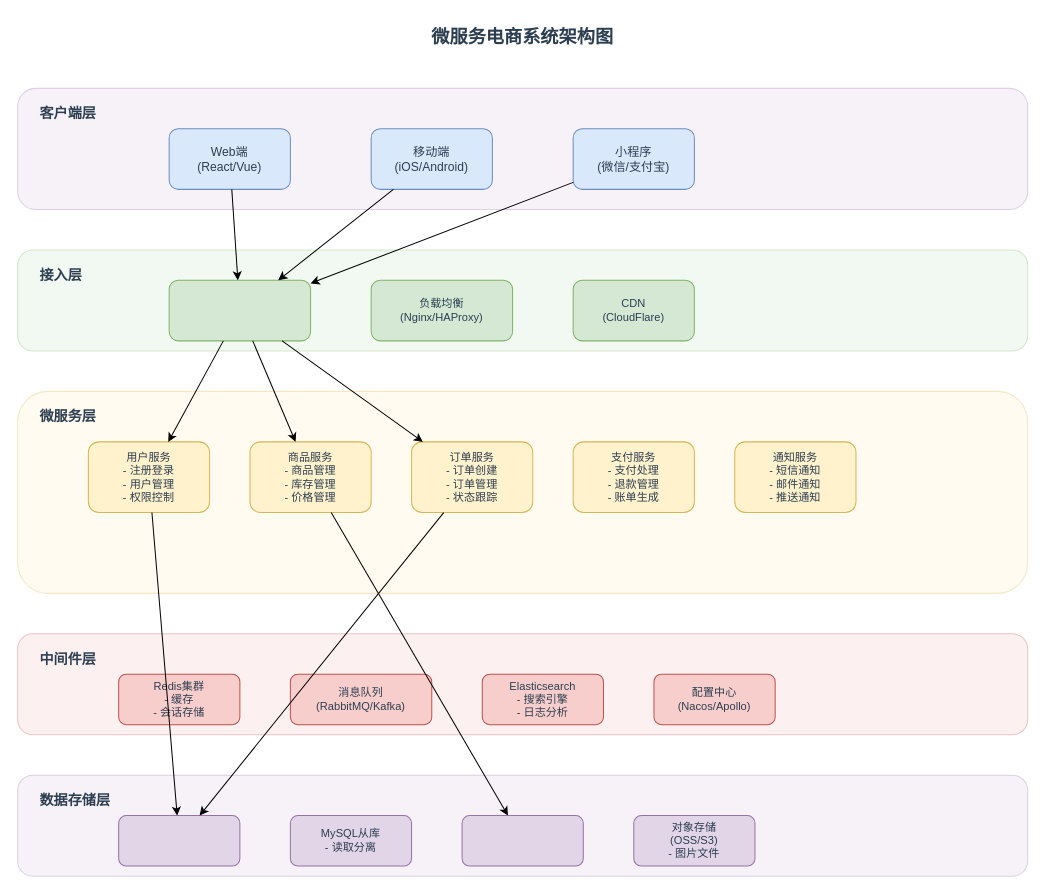
The diagram is 1045 pixels wide and 894 high, and some of its shapes have lost their labels. Here are the shapes that lost their labels. From the top down, the centre of each, then its label:
point 239,310: API网关 (Kong/Zuul) - 路由转发 - 认证鉴权 - 限流熔断
point 179,840: MySQL主库 - 用户数据 - 订单数据
point 522,840: MongoDB - 商品数据 - 日志数据
